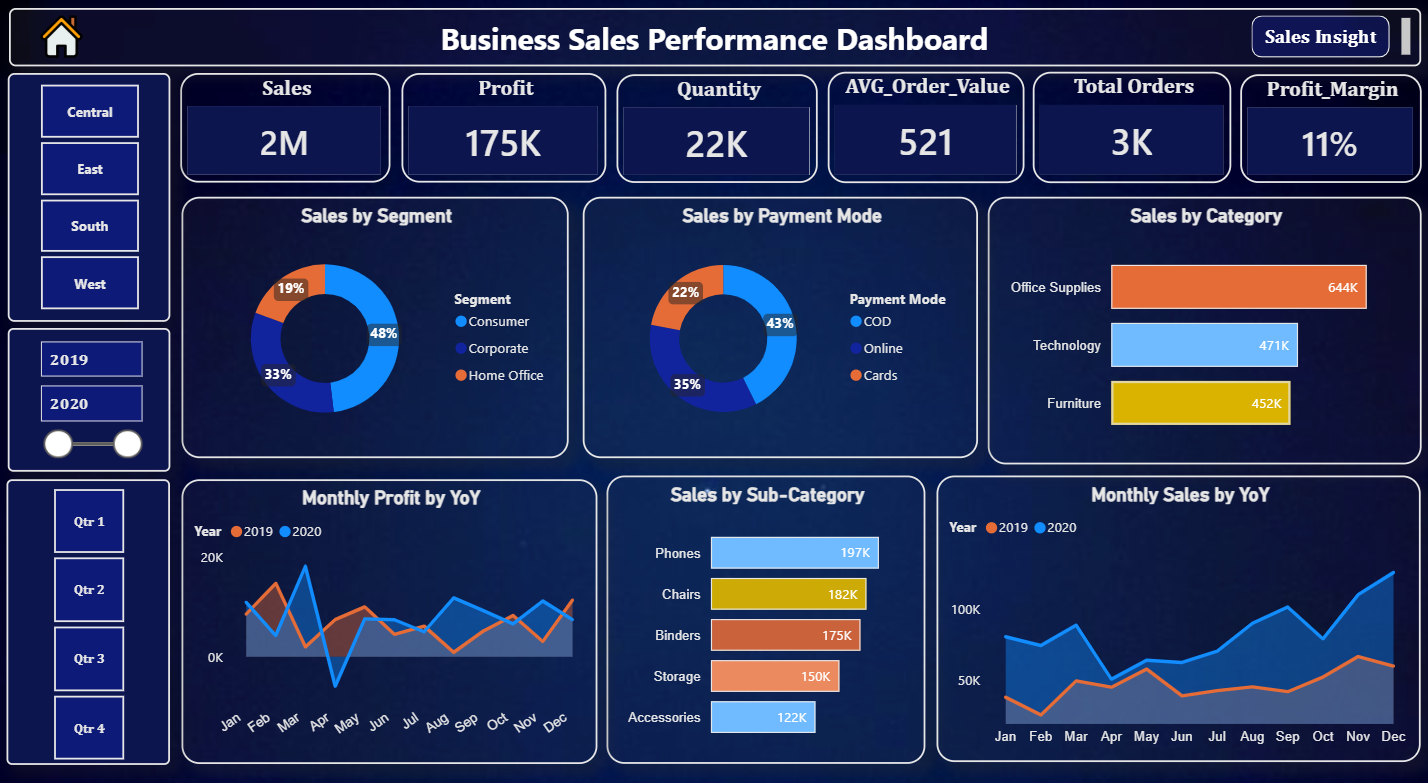

The dashboard page shown, as its layout file describes it:
{"tool":"powerbi","page":{"name":"Main Dashboard","canvas":[1280,720],"ordinal":0},"visuals":[{"type":"clusteredBarChart","title":"Sales by Category","fields":{"Category":["Sheet1.Category"],"Y":["Sum(Sheet1.Sales)"]},"box":[880.5,177,386.3,238.2],"z":0},{"type":"clusteredBarChart","title":"Sales by Sub-Category","fields":{"Category":["Sheet1.Sub-Category"],"Y":["Sum(Sheet1.Sales)"]},"box":[541,425.2,283.9,257.1],"z":1000},{"type":"areaChart","title":"Monthly Sales by YoY","fields":{"Y":["Sum(Sheet1.Sales)"],"Series":["Sheet1.Order Date.Variation.Date Hierarchy.Year"],"Category":["Sheet1.Month"]},"box":[834.8,425,431.5,255.4],"z":2000},{"type":"areaChart","title":"Monthly Profit by YoY","fields":{"Series":["Sheet1.Order Date.Variation.Date Hierarchy.Year"],"Category":["Sheet1.Month"],"Y":["Sum(Sheet1.Profit)"]},"box":[162.5,428.6,370.7,253.8],"z":3000},{"type":"donutChart","title":"Sales by Segment","fields":{"Y":["Sum(Sheet1.Sales)"],"Category":["Sheet1.Segment"]},"box":[163,177.2,344.6,232.6],"z":4000},{"type":"donutChart","title":"Sales by Payment Mode","fields":{"Y":["Sum(Sheet1.Sales)"],"Category":["Sheet1.Payment Mode"]},"box":[519.6,177.2,352.2,232.6],"z":5000},{"type":"textbox","box":[8.7,8.7,1257.6,52.2],"z":6000},{"type":"cardVisual","title":"AVG_Order_Value","fields":{"Data":["Sheet1.Avg_Order_Value"]},"box":[738,65.2,175,98.9],"z":7000},{"type":"cardVisual","title":"Profit","fields":{"Data":["Sum(Sheet1.Profit)"]},"box":[358.7,66.3,182.6,97.8],"z":8000},{"type":"cardVisual","title":"Sales","fields":{"Data":["Sum(Sheet1.Sales)"]},"box":[162,66.3,187,97.8],"z":9000},{"type":"cardVisual","title":"Total Orders","fields":{"Data":["Count(Sheet1.Order ID)"]},"box":[920.7,65.2,177.2,98.9],"z":10000},{"type":"slicer","fields":{"Values":["Sheet1.Region"]},"box":[8.2,66.4,144.5,221.8],"z":11000},{"type":"slicer","fields":{"Values":["Sheet1.Order Date.Variation.Date Hierarchy.Year"]},"box":[7.6,293.5,144.6,128.3],"z":12000},{"type":"cardVisual","title":"Quantity","fields":{"Data":["Sum(Sheet1.Quantity)"]},"box":[550,67.4,179.3,96.7],"z":13000},{"type":"cardVisual","title":"Profit_Margin","fields":{"Data":["Sheet1.Profit Margin %"]},"box":[1105.4,67.9,161.4,96.8],"z":14000},{"type":"slicer","fields":{"Values":["Sheet1.Order Date.Variation.Date Hierarchy.Quarter"]},"box":[6.5,428.3,145.7,254.3],"z":15000},{"type":"shape","box":[1116,15.7,123.1,37.4],"z":16000},{"type":"image","box":[0,15.6,111.3,37.8],"z":17000}]}

Visuals, with their boxes in screenshot pixels (x1, y1, x2, y2), scaled from the page's 1280x720 canvas onto the 1428x783 screenshot:
"Sales by Category" clusteredBarChart: bbox(982, 192, 1413, 452)
"Sales by Sub-Category" clusteredBarChart: bbox(604, 462, 920, 742)
"Monthly Sales by YoY" areaChart: bbox(931, 462, 1413, 740)
"Monthly Profit by YoY" areaChart: bbox(181, 466, 595, 742)
"Sales by Segment" donutChart: bbox(182, 193, 566, 446)
"Sales by Payment Mode" donutChart: bbox(580, 193, 973, 446)
textbox: bbox(10, 9, 1413, 66)
"AVG_Order_Value" cardVisual: bbox(823, 71, 1019, 178)
"Profit" cardVisual: bbox(400, 72, 604, 178)
"Sales" cardVisual: bbox(181, 72, 389, 178)
"Total Orders" cardVisual: bbox(1027, 71, 1225, 178)
slicer - Sheet1.Region: bbox(9, 72, 170, 313)
slicer - Sheet1.Order Date.Variation.Date Hierarchy.Year: bbox(8, 319, 170, 459)
"Quantity" cardVisual: bbox(614, 73, 814, 178)
"Profit_Margin" cardVisual: bbox(1233, 74, 1413, 179)
slicer - Sheet1.Order Date.Variation.Date Hierarchy.Quarter: bbox(7, 466, 170, 742)
shape: bbox(1245, 17, 1382, 58)
image: bbox(0, 17, 124, 58)
